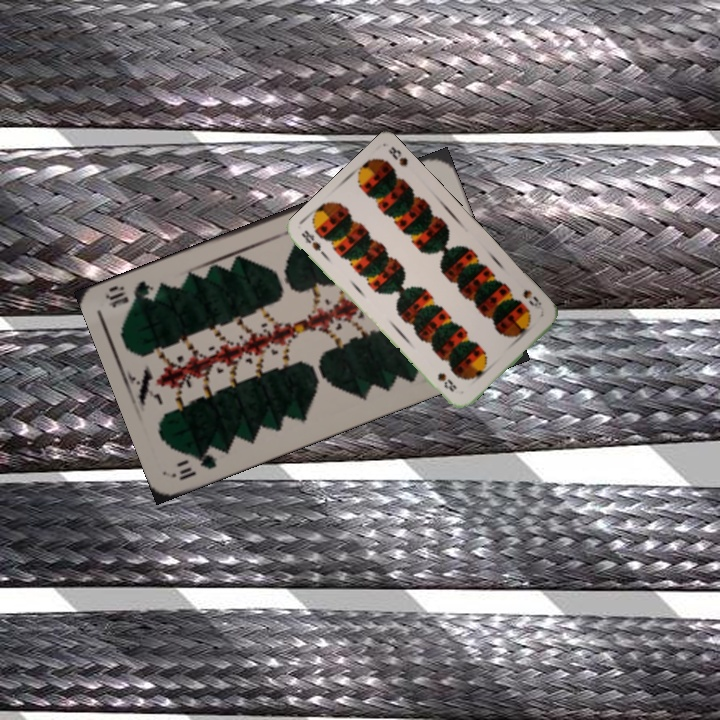G10: (171, 447, 220, 483)
S8: (297, 226, 330, 260), (519, 286, 547, 313)
